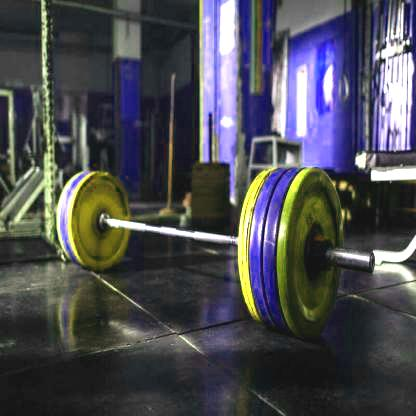Barbell: (366, 247, 384, 284)
